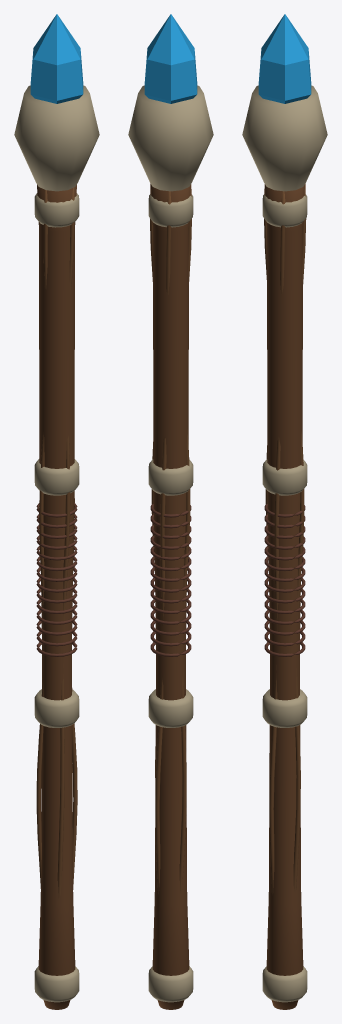
The model's file is wooden-staff-standard.glb.
3 views of the same model, side by side, from view 1: azimuth 30°, elevation 25°; view 2: azimuth 150°, elevation 25°; view 3: azimuth 330°, elevation 25° (orthographic).
Parts seen in each view (by area): view 1: wooden-staff__standard; view 2: wooden-staff__standard; view 3: wooden-staff__standard.
Part boxes in pixels (bbox=[...]): wooden-staff__standard: bbox=[14, 14, 99, 1009]; wooden-staff__standard: bbox=[128, 14, 213, 1009]; wooden-staff__standard: bbox=[242, 14, 327, 1009].
Size of the model in its own units: 0.13 by 1.66 by 0.13.
